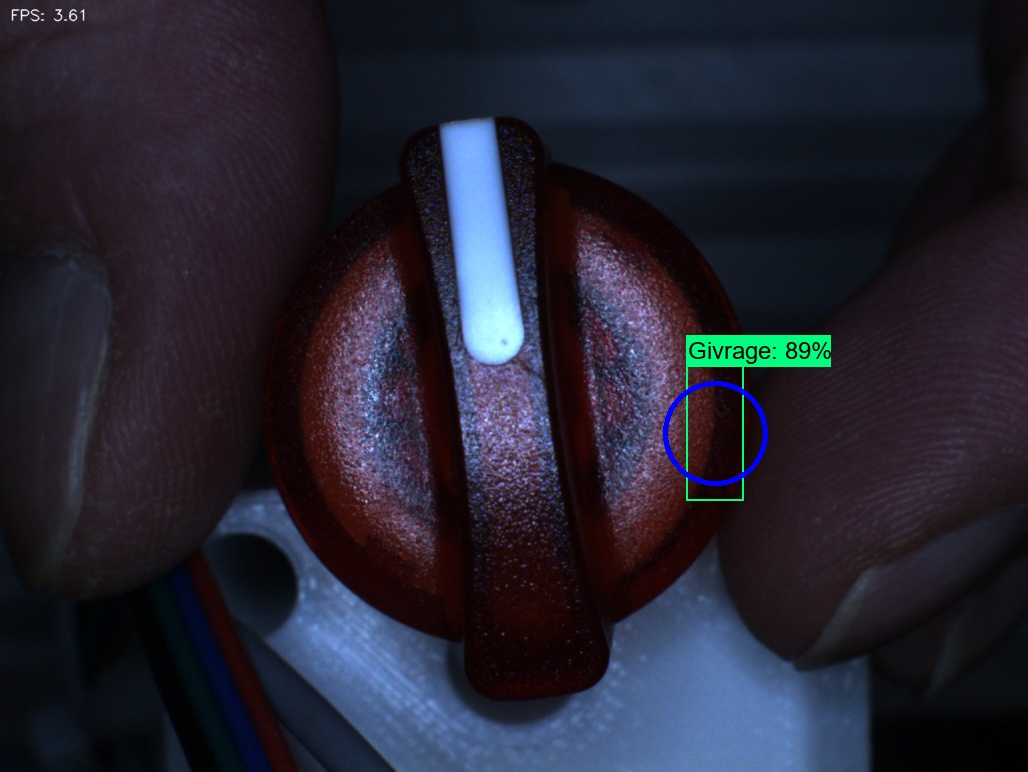PointNoir: (470, 317, 538, 382)
